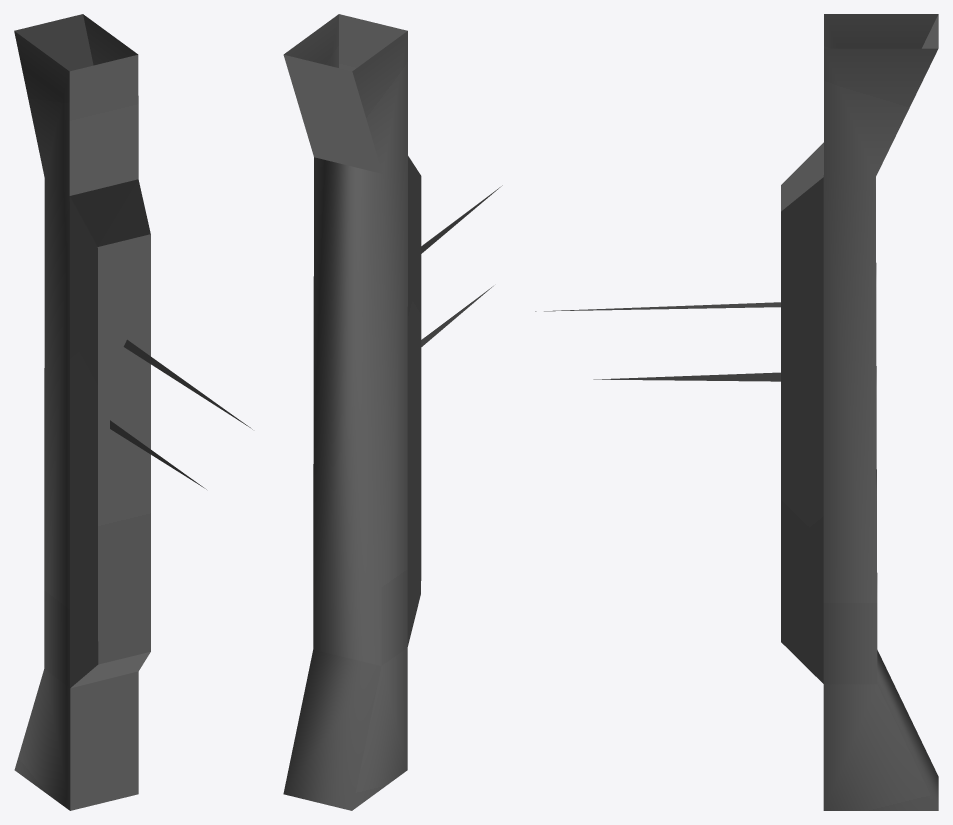
The model's file is stat_bridge0.glb.
3 renders of one model, left to right at view 1: azimuth 30°, elevation 25°; view 2: azimuth 150°, elevation 25°; view 3: azimuth 270°, elevation 25°, orthographic. The views are drawn at different scales.
Visible parts, largest first — view 1: group_13; view 2: group_13; view 3: group_13.
Part boxes in pixels (<box>): group_13: <box>14,14,252,810</box>; group_13: <box>283,14,502,810</box>; group_13: <box>535,14,938,810</box>.
Bounding box in the file's own units: 2511 × 25743 × 12400.
1 material, 1 textured.
